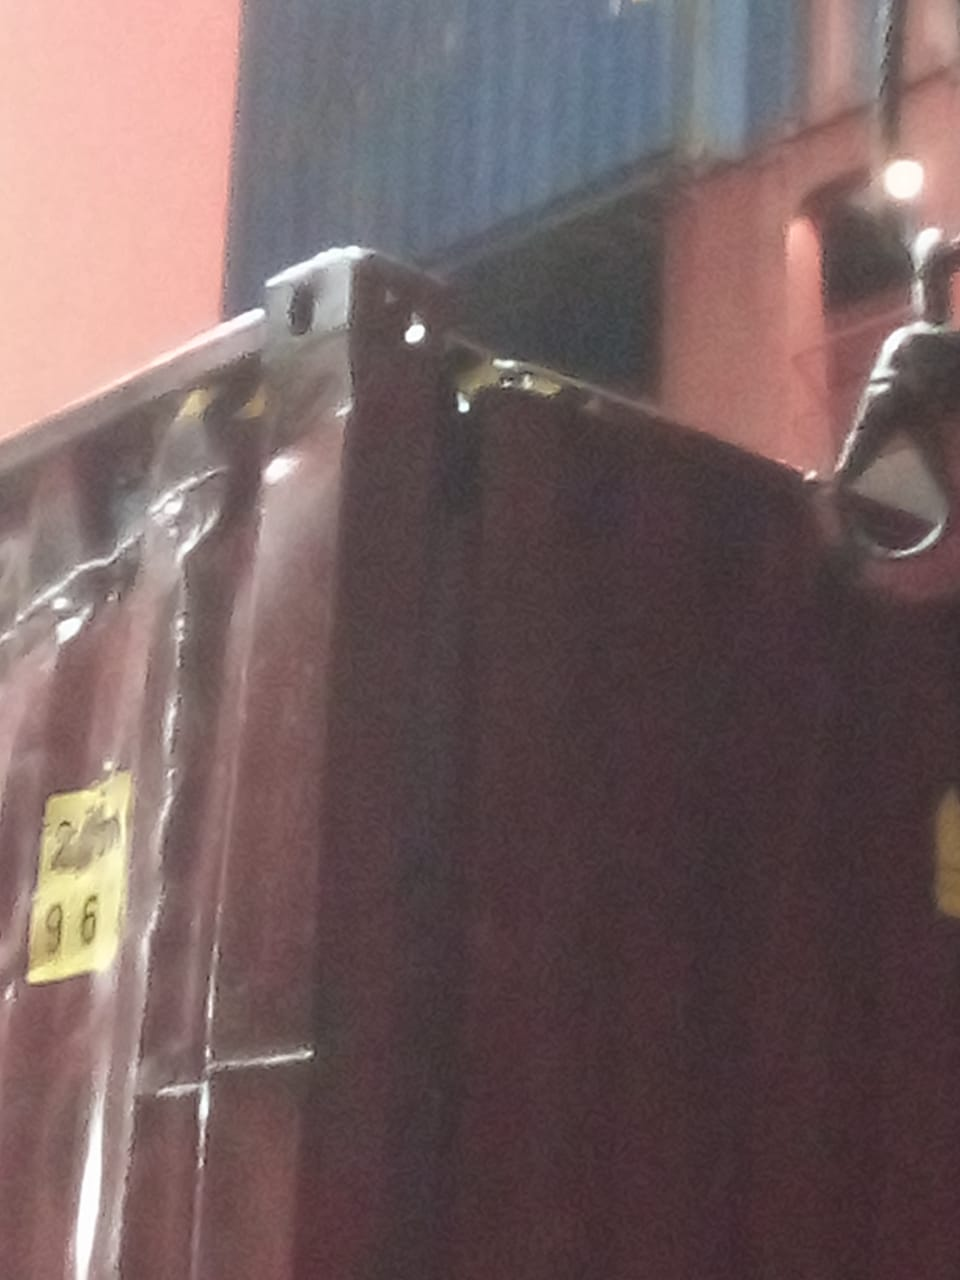dented: (14, 367, 333, 642)
